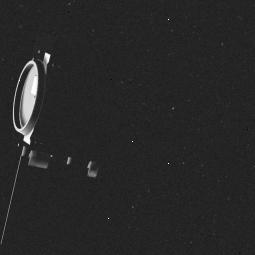proba_3_csc: (0, 50, 127, 255)
